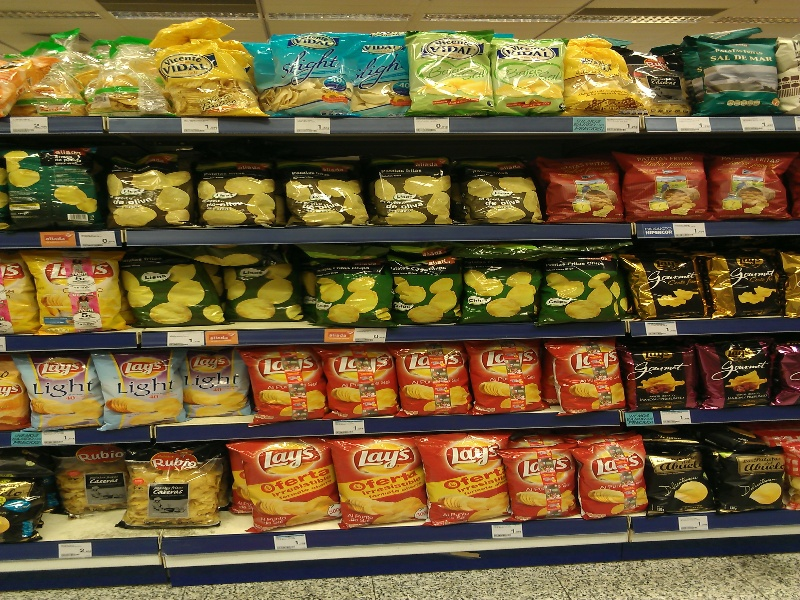chips: (232, 438, 343, 529), (329, 435, 431, 526), (412, 435, 515, 525), (119, 250, 233, 328), (28, 250, 129, 334), (96, 345, 190, 429), (282, 147, 376, 227), (307, 247, 397, 327), (457, 243, 541, 328), (195, 148, 282, 229), (628, 240, 715, 319), (542, 246, 632, 322), (106, 152, 197, 227), (22, 355, 112, 430), (622, 149, 712, 224), (552, 340, 635, 421), (462, 145, 544, 226), (575, 437, 653, 521), (540, 151, 627, 225), (246, 348, 334, 421), (502, 443, 583, 521), (470, 343, 551, 421), (377, 146, 458, 224), (391, 245, 458, 330), (622, 342, 699, 415), (398, 343, 474, 416), (176, 346, 252, 419), (328, 347, 402, 418)
